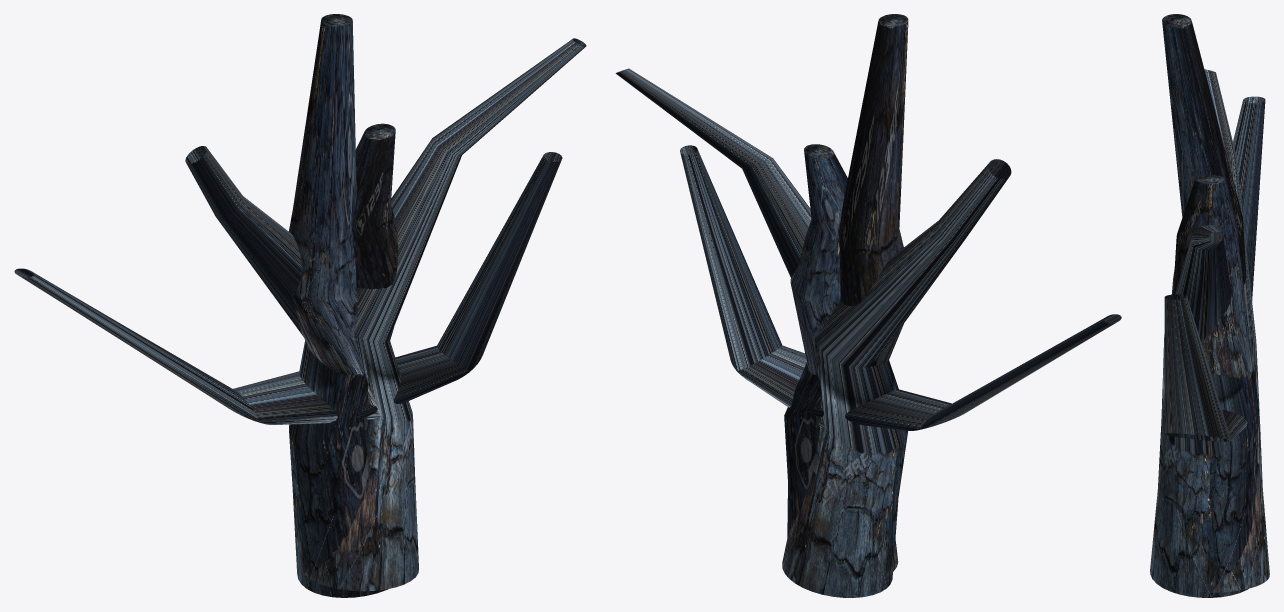
The model's file is Arvores04.fbx.
3 renders of one model, left to right at view 1: azimuth 30°, elevation 25°; view 2: azimuth 150°, elevation 25°; view 3: azimuth 270°, elevation 25°, orthographic. The views are drawn at different scales.
Visible parts, largest first — view 1: Cylinder; view 2: Cylinder; view 3: Cylinder.
Boxes of the visible parts, left/top/right/bottom form: Cylinder: left=14, top=14, right=586, bottom=597; Cylinder: left=615, top=14, right=1121, bottom=597; Cylinder: left=1150, top=14, right=1269, bottom=597.
Size of the model in its own units: 1.52 by 0.307 by 1.54.
1 material, 1 textured.
